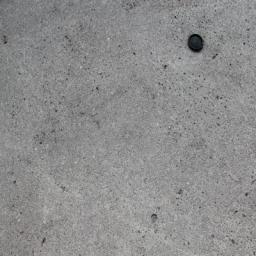FOD: (186, 31, 207, 56)
